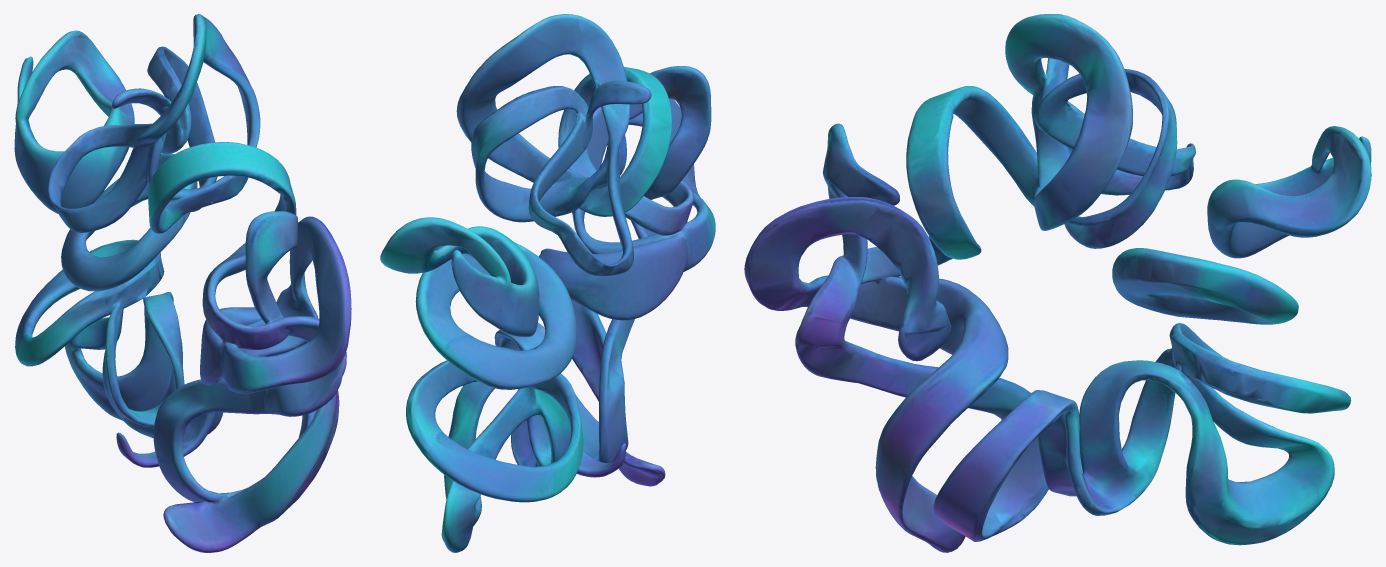
The model's file is protein.glb.
3 views of the same model, side by side, from view 1: azimuth 30°, elevation 25°; view 2: azimuth 150°, elevation 25°; view 3: azimuth 270°, elevation 25° (orthographic). The views are drawn at different scales.
Parts seen in each view (by area): view 1: tripo_node_37c152b2-3623-4579-bc38-61f163b38a16; view 2: tripo_node_37c152b2-3623-4579-bc38-61f163b38a16; view 3: tripo_node_37c152b2-3623-4579-bc38-61f163b38a16.
Boxes of the visible parts, bbox=[...] form: tripo_node_37c152b2-3623-4579-bc38-61f163b38a16: bbox=[14, 14, 351, 552]; tripo_node_37c152b2-3623-4579-bc38-61f163b38a16: bbox=[380, 14, 715, 552]; tripo_node_37c152b2-3623-4579-bc38-61f163b38a16: bbox=[744, 14, 1371, 552].
Size of the model in its own units: 0.3819 by 0.9525 by 0.9792.
1 material, 1 textured.
